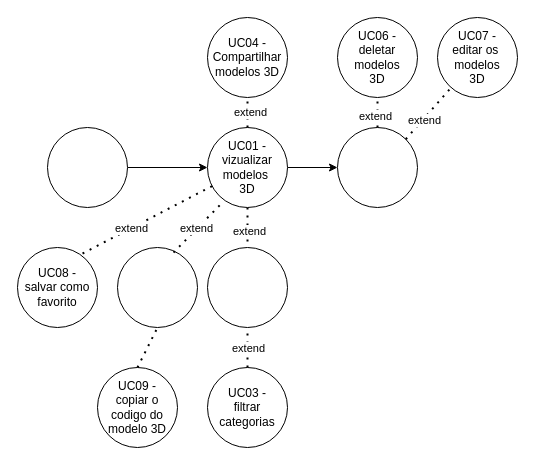
The diagram is 535 pixels wide and 465 high, and some of its shapes have lost their labels. The shapes that lost their labels are listed below. From the top down, each one's centre as x and y in pixels, then its label:
the point at 87,167: cliente
the point at 377,167: UC05 - publicar modelos 3D
the point at 157,287: UC09 - fazer dowloand do modelo 3D
the point at 247,287: UC02 - pesquisar modelos 3D
